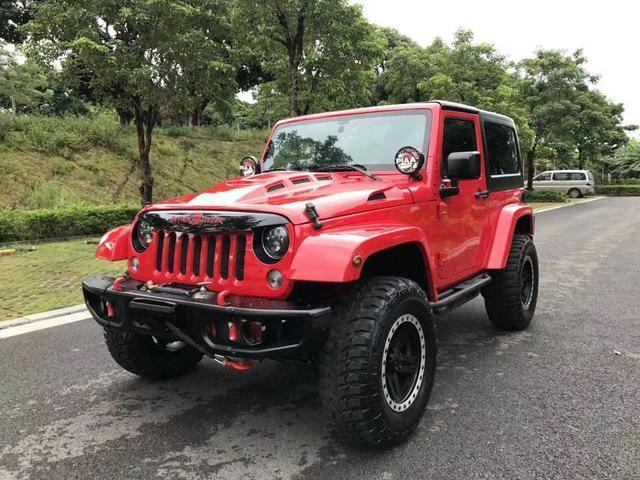汽车: (86, 104, 553, 456)
